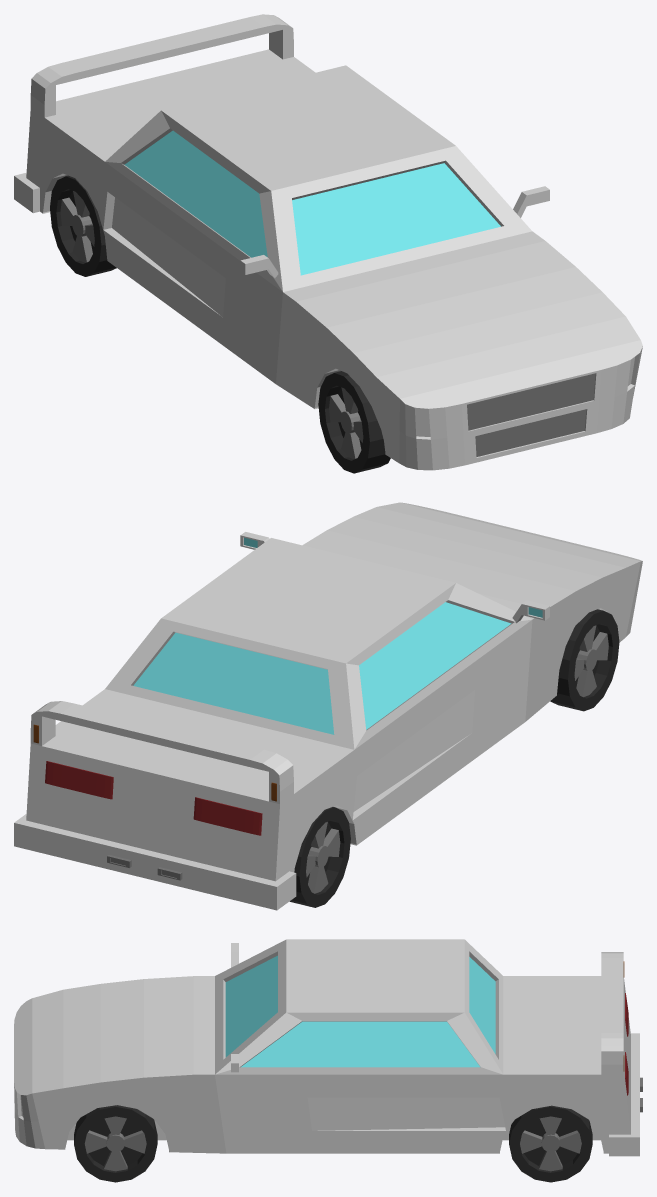
Rendered from SportCar.fbx.
3 views of the same model, one above another, from view 1: azimuth 30°, elevation 25°; view 2: azimuth 150°, elevation 25°; view 3: azimuth 270°, elevation 25° (orthographic). The views are drawn at different scales.
Parts seen in each view (by area): view 1: MainColor, Main, FRightTire, RRightTire, MainColor2; view 2: MainColor, Main, FRightTire, RRightTire; view 3: MainColor, Main, FLeftTire, RLeftTire, MainColor2.
Part boxes in pixels (left/top/right/bottom): MainColor: left=14, top=14, right=642, bottom=470; Main: left=124, top=130, right=635, bottom=456; FRightTire: left=318, top=371, right=390, bottom=473; RRightTire: left=50, top=175, right=116, bottom=276; MainColor2: left=103, top=192, right=219, bottom=314; MainColor: left=14, top=502, right=642, bottom=910; Main: left=33, top=537, right=542, bottom=880; FRightTire: left=550, top=609, right=619, bottom=711; RRightTire: left=289, top=807, right=350, bottom=907; MainColor: left=14, top=939, right=639, bottom=1156; Main: left=20, top=955, right=642, bottom=1116; FLeftTire: left=74, top=1105, right=157, bottom=1182; RLeftTire: left=509, top=1105, right=592, bottom=1182; MainColor2: left=318, top=1127, right=505, bottom=1130.
Size of the model in its own units: 144 by 87.68 by 318.
